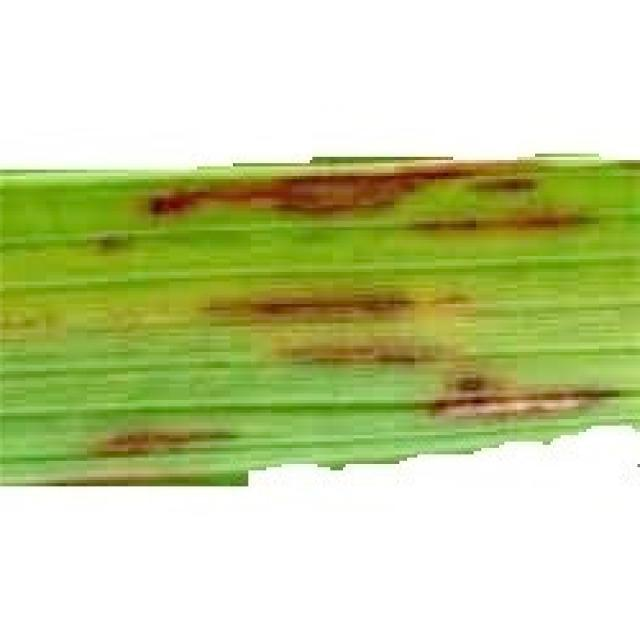Leafsmut: (145, 162, 510, 217), (422, 385, 618, 418), (203, 291, 413, 320), (409, 209, 591, 231), (279, 340, 436, 364), (93, 429, 232, 456), (473, 176, 536, 192), (92, 233, 131, 254)
